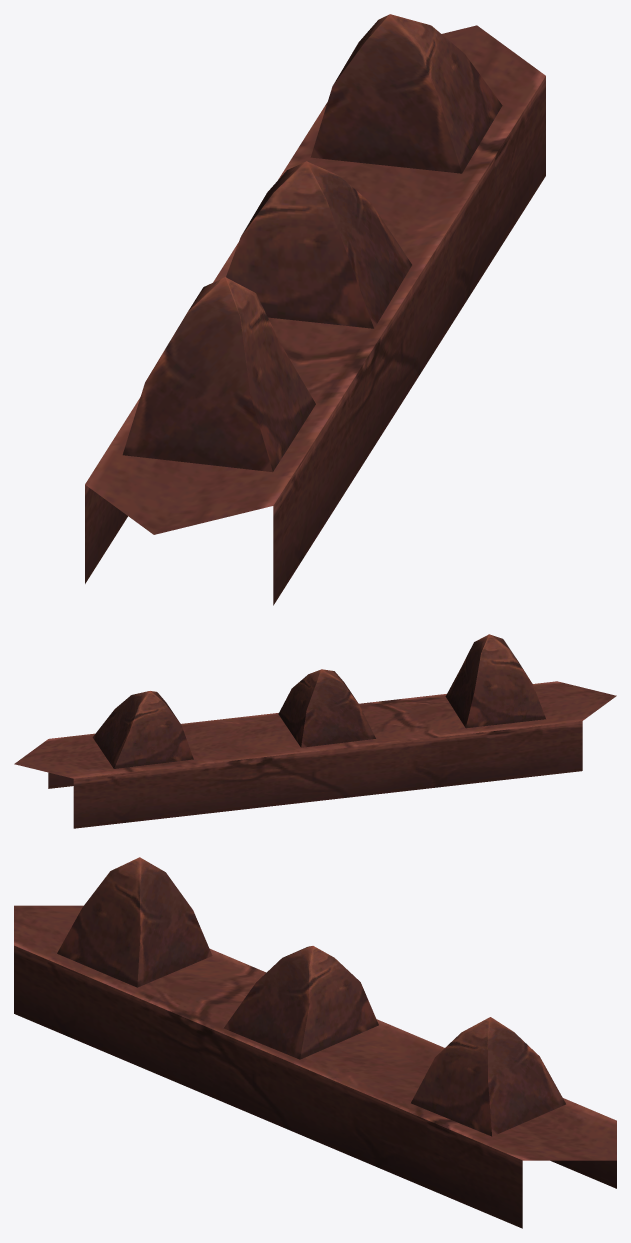
The model's file is lava_cap_diagonal_01.fbx.
The picture shows the model from 3 angles, top to bottom: view 1: azimuth 30°, elevation 25°; view 2: azimuth 150°, elevation 25°; view 3: azimuth 270°, elevation 25°; orthographic projection. The views are drawn at different scales.
Visible parts, largest first — view 1: lava_cap_diagonal_01-0; view 2: lava_cap_diagonal_01-0; view 3: lava_cap_diagonal_01-0.
Part boxes in pixels (x1,y1,x2,y2): lava_cap_diagonal_01-0: [85, 14, 545, 605]; lava_cap_diagonal_01-0: [14, 634, 616, 828]; lava_cap_diagonal_01-0: [14, 857, 616, 1228].
Bounding box in the file's own units: 4 × 1.25 × 4.
